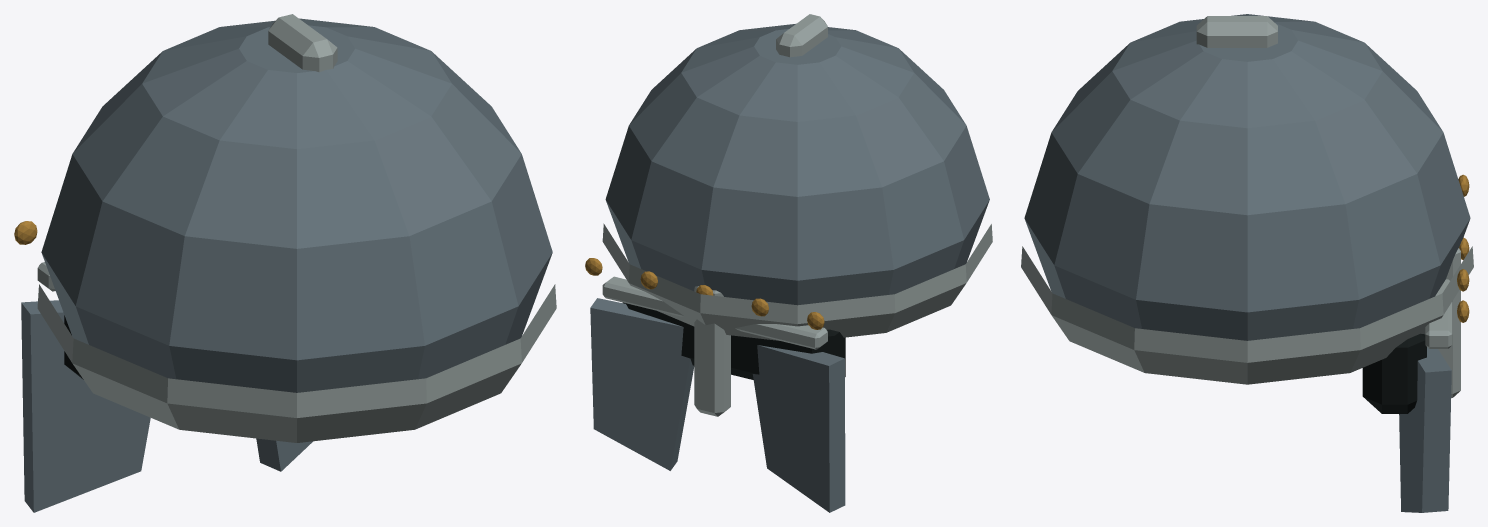
The model's file is Head.glb.
3 renders of one model, left to right at view 1: azimuth 30°, elevation 25°; view 2: azimuth 150°, elevation 25°; view 3: azimuth 270°, elevation 25°, orthographic. The views are drawn at different scales.
Parts seen in each view (by area): view 1: Sculpture; view 2: Sculpture; view 3: Sculpture.
Boxes of the visible parts, box(x1,y1,x2,y2) form: Sculpture: box(14, 14, 556, 512); Sculpture: box(585, 14, 992, 512); Sculpture: box(1021, 14, 1473, 512).
Bounding box in the file's own units: 0.67 × 0.7552 × 0.67.
